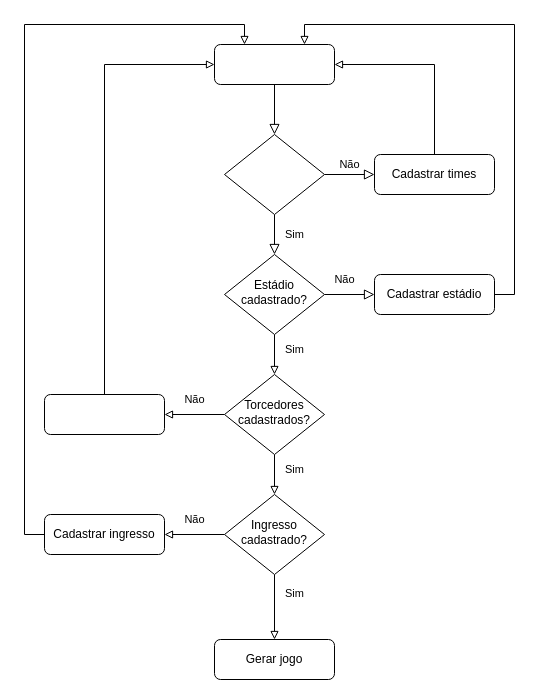
Some shapes in this 540 by 697 pixel diagram are drawn without their labels. The box of each missing label's shape, as (x1, y1, x2, y2) in pixels:
Cadastrar torcedores: (44, 394, 164, 434)
Menu principal: (214, 44, 334, 84)
Times cadastrados?: (224, 134, 324, 214)
